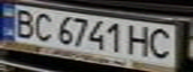1: (103, 20, 127, 54)
4: (87, 18, 109, 52)
6: (51, 13, 75, 46)
7: (69, 16, 90, 47)
B: (9, 7, 39, 38)
C: (145, 26, 178, 60), (30, 10, 57, 42)
H: (124, 23, 154, 57)
